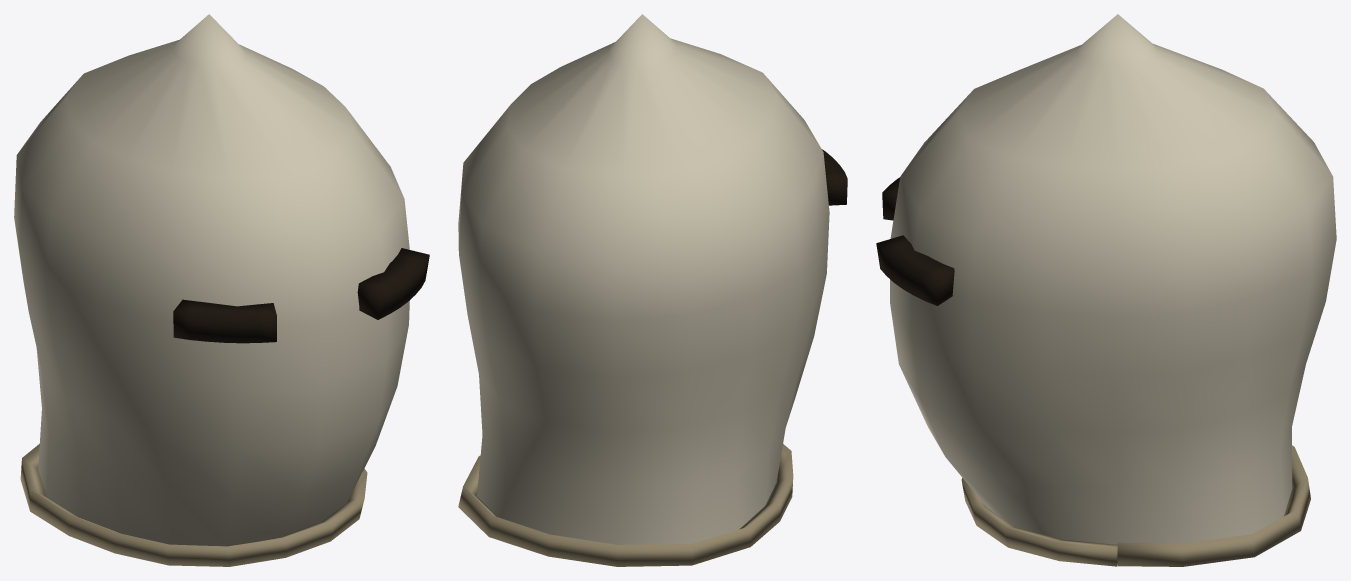
The model's file is necro_armor_head.glb.
The picture shows the model from 3 angles, left to right: view 1: azimuth 30°, elevation 25°; view 2: azimuth 150°, elevation 25°; view 3: azimuth 270°, elevation 25°; orthographic projection. The views are drawn at different scales.
Visible parts, largest first — view 1: necro_armor_head; view 2: necro_armor_head; view 3: necro_armor_head.
Part boxes in pixels (box(x1,y1,x2,y2)): necro_armor_head: box(14, 14, 429, 566); necro_armor_head: box(458, 14, 847, 566); necro_armor_head: box(876, 14, 1336, 566).
Bounding box in the file's own units: 0.2151 × 0.3117 × 0.2668.
